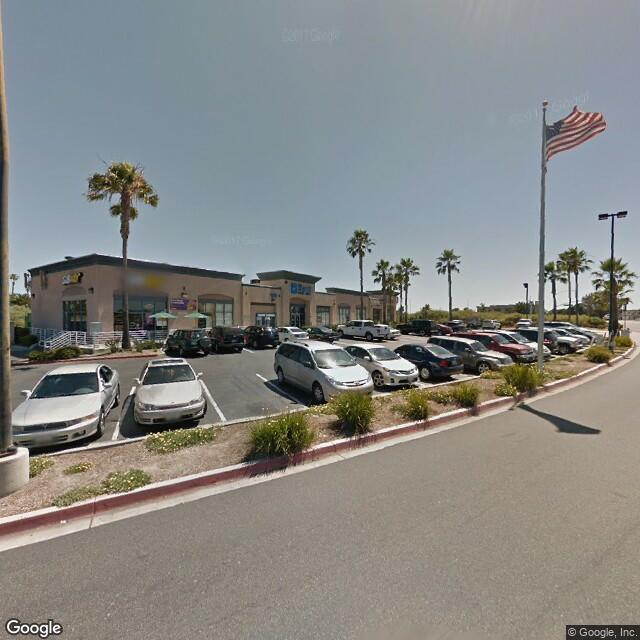litter: (55, 519, 68, 527)
